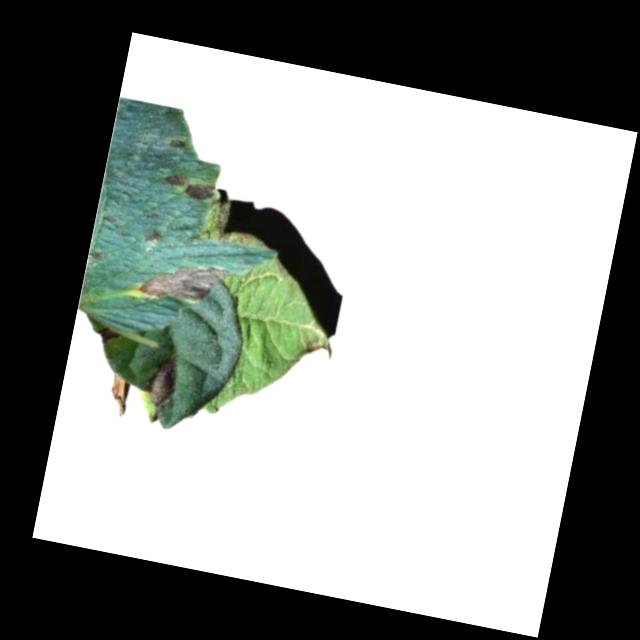Early_blight: (135, 251, 231, 309), (147, 356, 181, 409), (161, 171, 217, 201), (107, 375, 131, 418), (144, 227, 165, 246)
